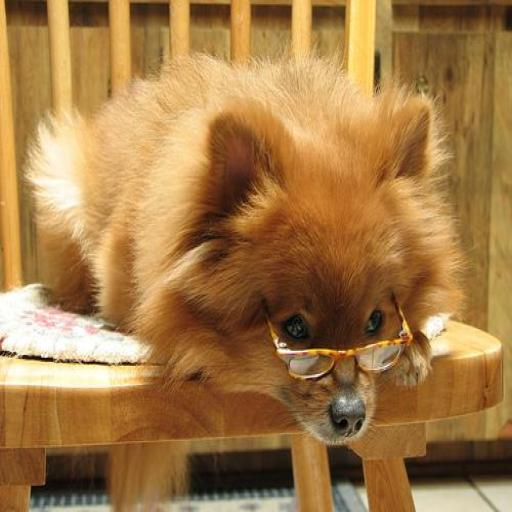dog_face: (194, 101, 437, 436)
